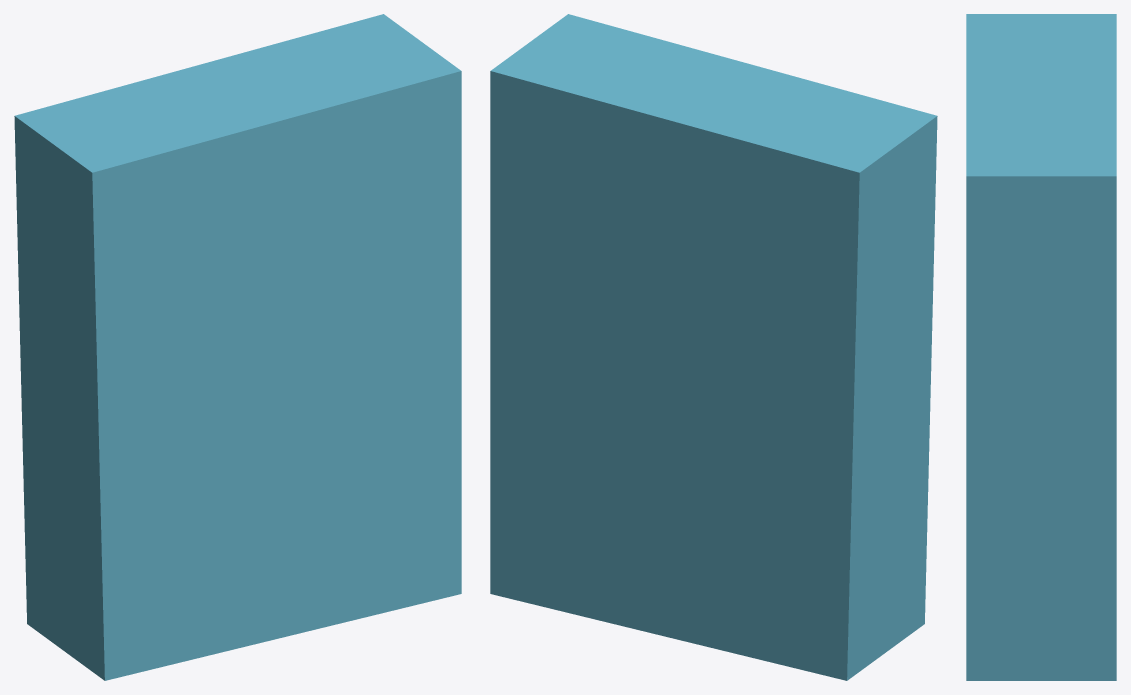
The picture shows the model from 3 angles, left to right: view 1: azimuth 30°, elevation 25°; view 2: azimuth 150°, elevation 25°; view 3: azimuth 270°, elevation 25°; orthographic projection. The views are drawn at different scales.
Visible parts, largest first — view 1: geometry_0; view 2: geometry_0; view 3: geometry_0.
Boxes of the visible parts, x1,y1,x2,y2 form: geometry_0: [14, 14, 461, 680]; geometry_0: [490, 14, 937, 680]; geometry_0: [966, 14, 1116, 680].
Size of the model in its own units: 8.22 by 11.12 by 3.
